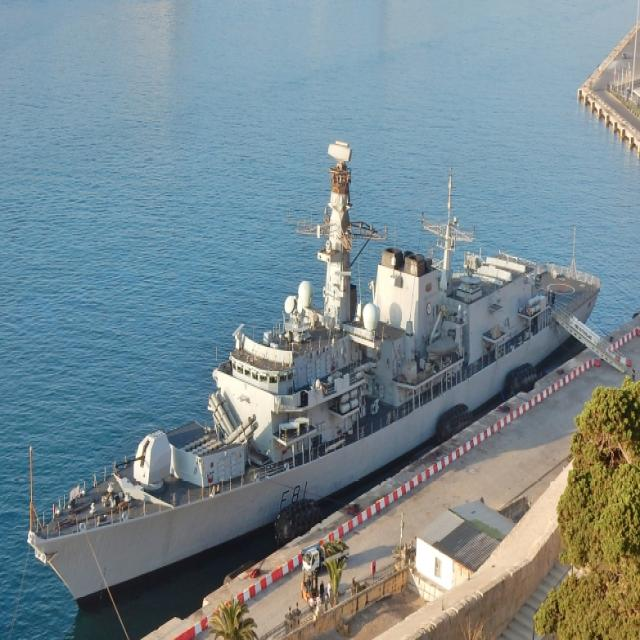Fragata: (19, 135, 611, 625)
